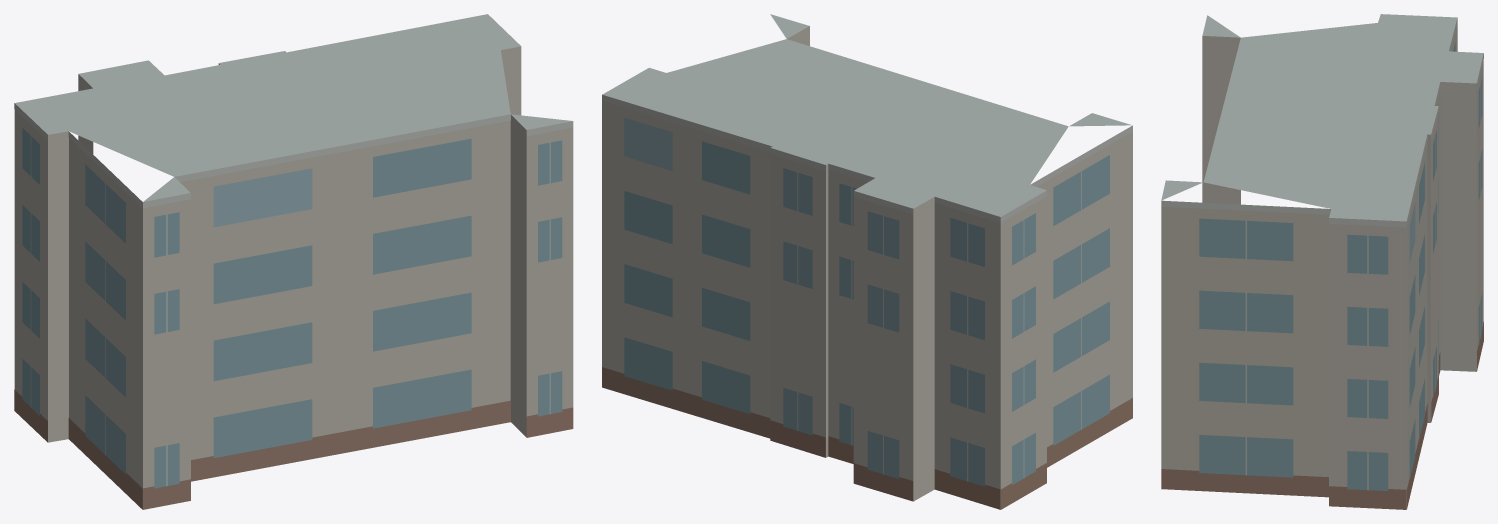
File: survey-upis-32704169.glb
The picture shows the model from 3 angles, left to right: view 1: azimuth 30°, elevation 25°; view 2: azimuth 150°, elevation 25°; view 3: azimuth 270°, elevation 25°; orthographic projection. The views are drawn at different scales.
Parts seen in each view (by area): view 1: survey-upis-32704169.tmp; view 2: survey-upis-32704169.tmp; view 3: survey-upis-32704169.tmp.
Boxes of the visible parts, x1,y1,x2,y2 form: survey-upis-32704169.tmp: (14,14,573,509); survey-upis-32704169.tmp: (602,14,1132,509); survey-upis-32704169.tmp: (1161,14,1483,509).
Bounding box in the file's own units: 18.4 × 11.93 × 12.09.
